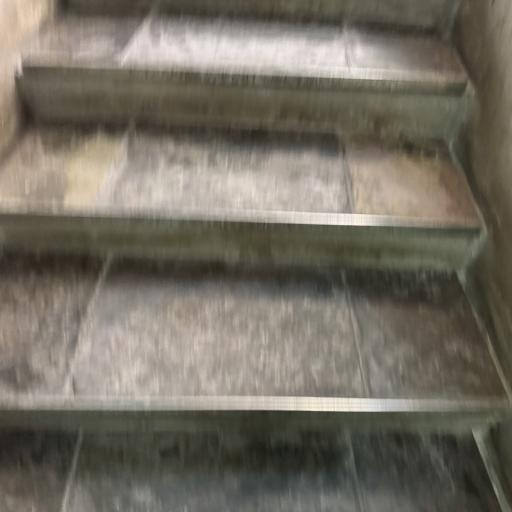Stairs: (0, 0, 512, 512), (0, 254, 510, 431), (0, 127, 485, 270), (18, 15, 474, 140), (0, 429, 500, 512)
